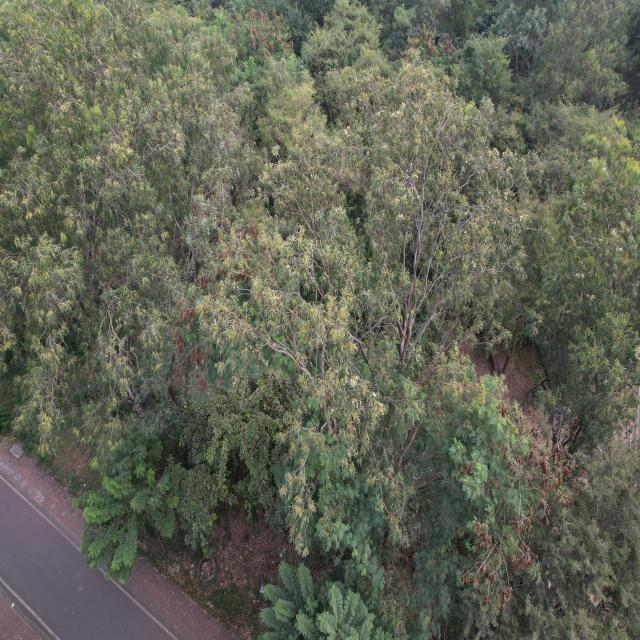Devakanchan tree: (191, 383, 276, 529)
